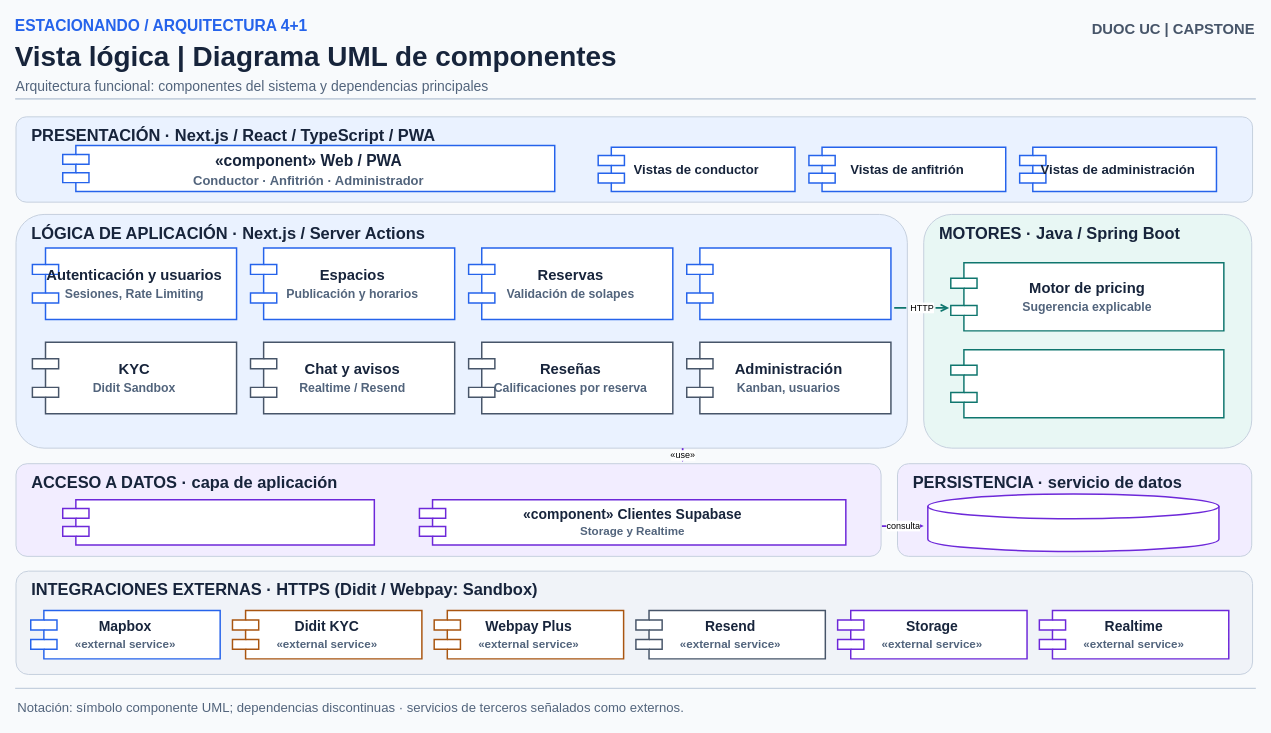
The diagram is 1271 pixels wide and 733 high, and some of its shapes have lost their labels. The shapes that lost their labels are listed below. From the top down, each one's centre as x and y in pixels, then its label:
the point at 788,283: Pagos Webpay
the point at 1087,383: Motor de ruteo Matrix y Directions
the point at 218,522: «component» Prisma ORM Consultas y transacciones
the point at 1073,522: PostgreSQL
